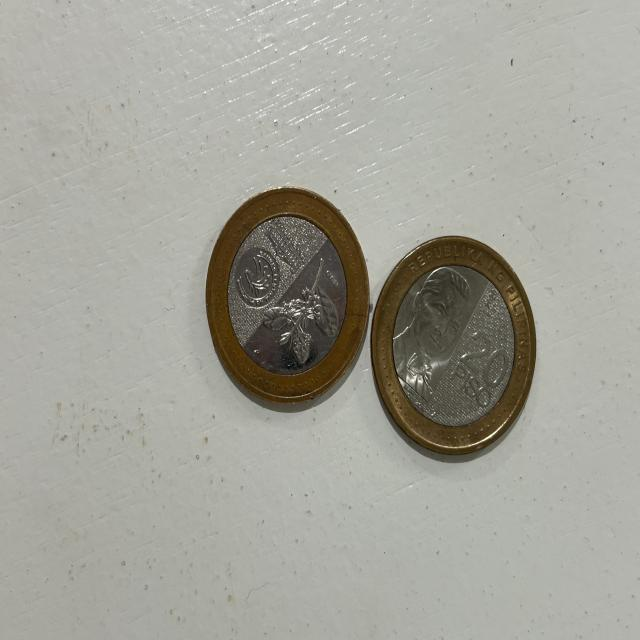20_New_Back: (258, 257, 344, 378)
20_New_Front: (453, 333, 513, 403)
